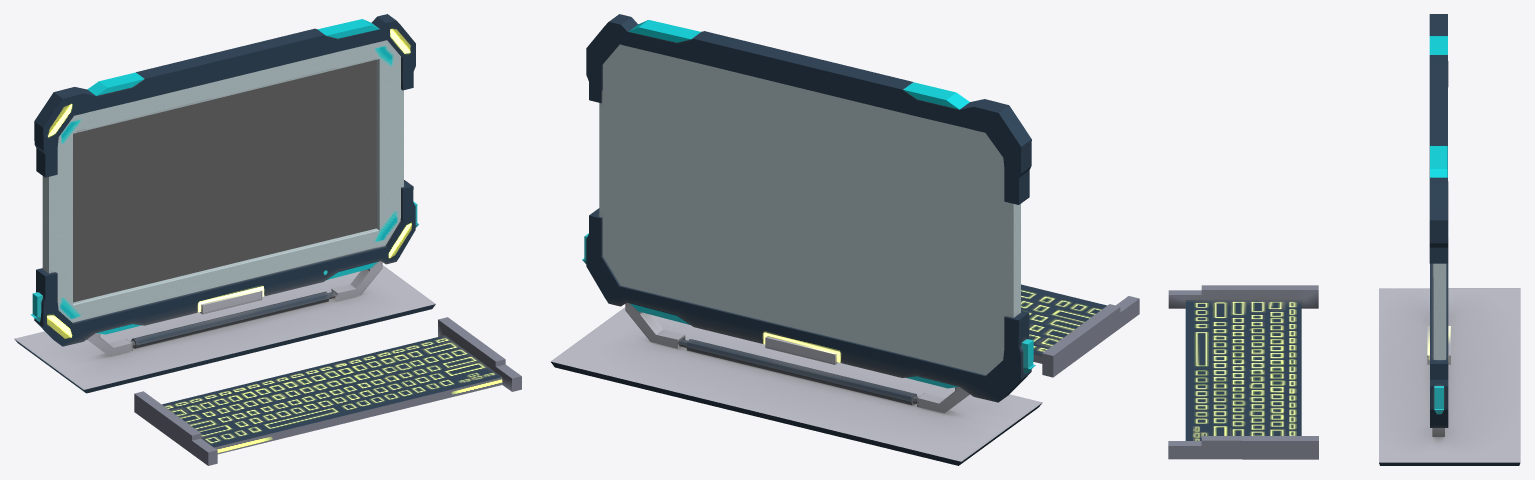
The model's file is PC_CIS.fbx.
The picture shows the model from 3 angles, left to right: view 1: azimuth 30°, elevation 25°; view 2: azimuth 150°, elevation 25°; view 3: azimuth 270°, elevation 25°; orthographic projection. The views are drawn at different scales.
Parts seen in each view (by area): view 1: TECLADO; view 2: TECLADO; view 3: TECLADO.
Part boxes in pixels (left/top/right/bottom): TECLADO: left=14, top=14, right=521, bottom=465; TECLADO: left=550, top=14, right=1139, bottom=465; TECLADO: left=1168, top=14, right=1520, bottom=465.
Bounding box in the file's own units: 65.45 × 45.2 × 51.15.
